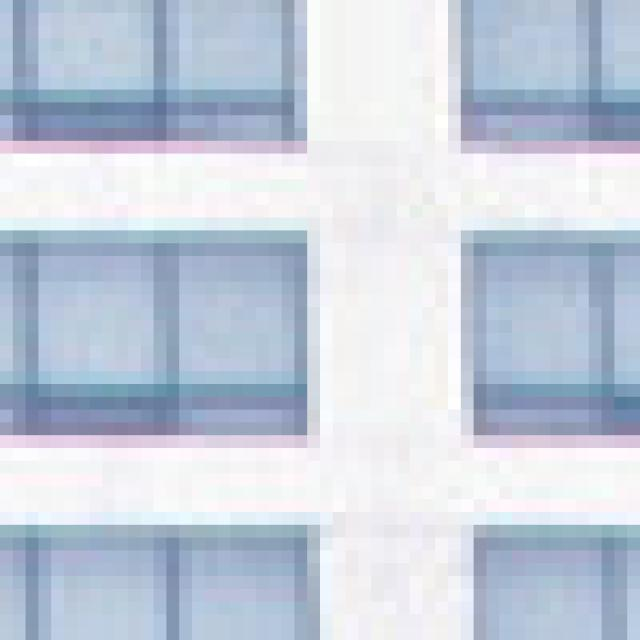no_fire: (44, 30, 618, 585)
